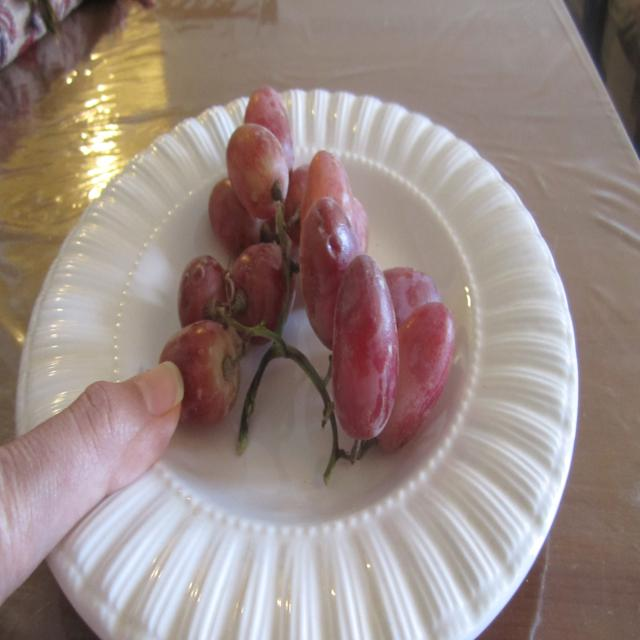grape: (154, 79, 478, 507)
